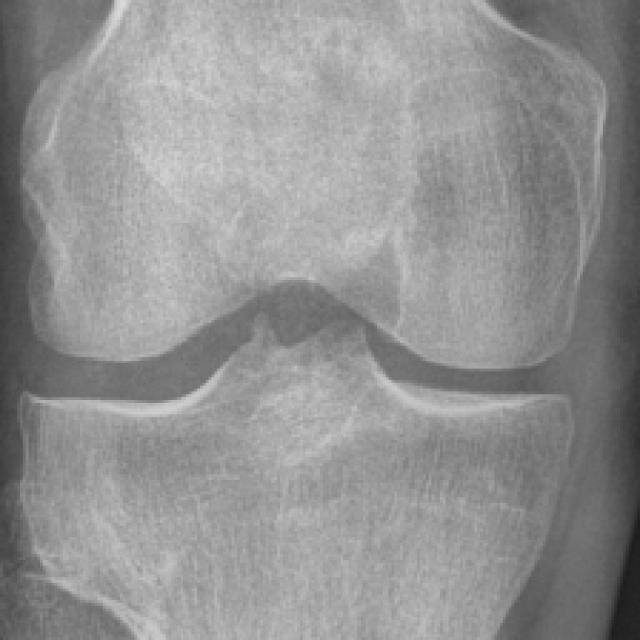femur: (26, 1, 603, 366)
tibia: (25, 326, 567, 637)
